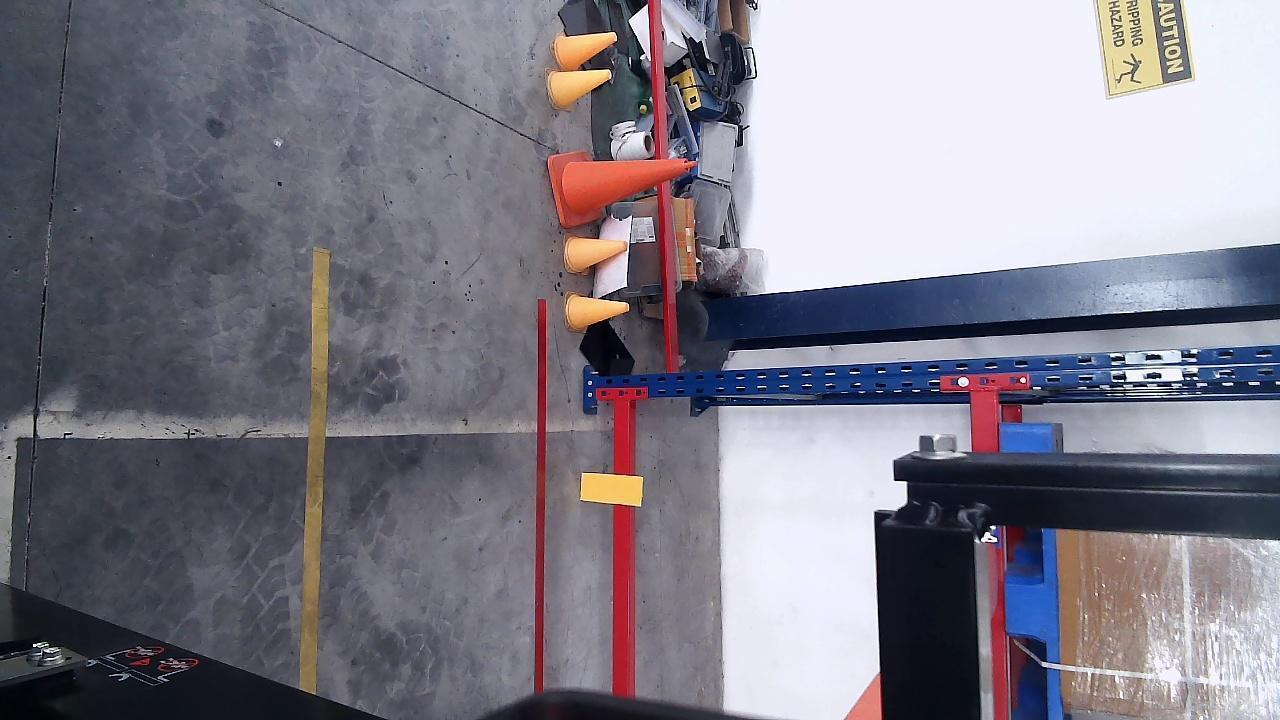red_line: (537, 297, 546, 690)
yellow_line: (301, 247, 326, 694)
